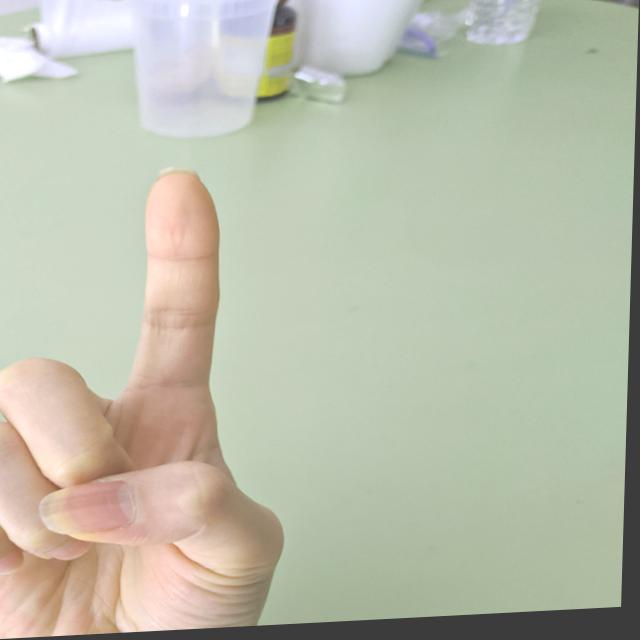D: (0, 156, 313, 639)
